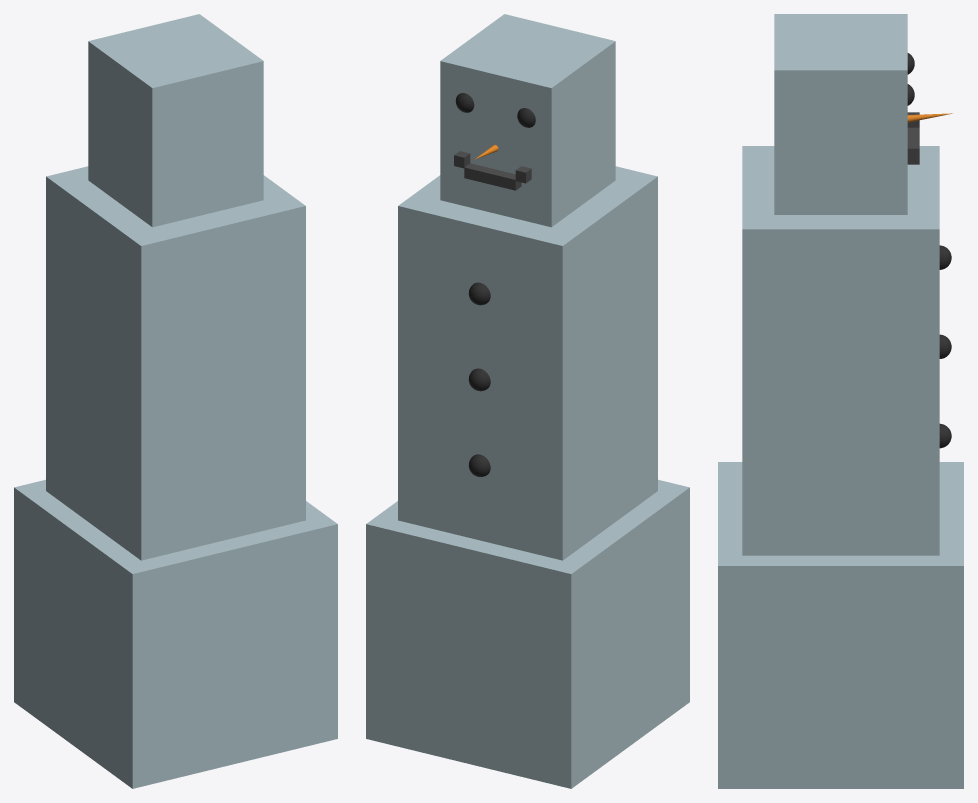
File: Snowman.fbx
The picture shows the model from 3 angles, left to right: view 1: azimuth 30°, elevation 25°; view 2: azimuth 150°, elevation 25°; view 3: azimuth 270°, elevation 25°; orthographic projection. The views are drawn at different scales.
Visible parts, largest first — view 1: MiddlePart, LowPart, Head; view 2: MiddlePart, LowPart, Head, Cube; view 3: MiddlePart, LowPart, Head.
Part boxes in pixels (left/top/right/bottom): MiddlePart: left=46, top=166, right=305, bottom=560; LowPart: left=14, top=479, right=337, bottom=788; Head: left=88, top=14, right=263, bottom=227; MiddlePart: left=398, top=166, right=657, bottom=560; LowPart: left=366, top=479, right=689, bottom=788; Head: left=440, top=14, right=615, bottom=227; Cube: left=464, top=163, right=521, bottom=190; MiddlePart: left=742, top=146, right=939, bottom=555; LowPart: left=718, top=462, right=963, bottom=788; Head: left=774, top=14, right=907, bottom=214.
Size of the model in its own units: 200 by 623 by 200.
